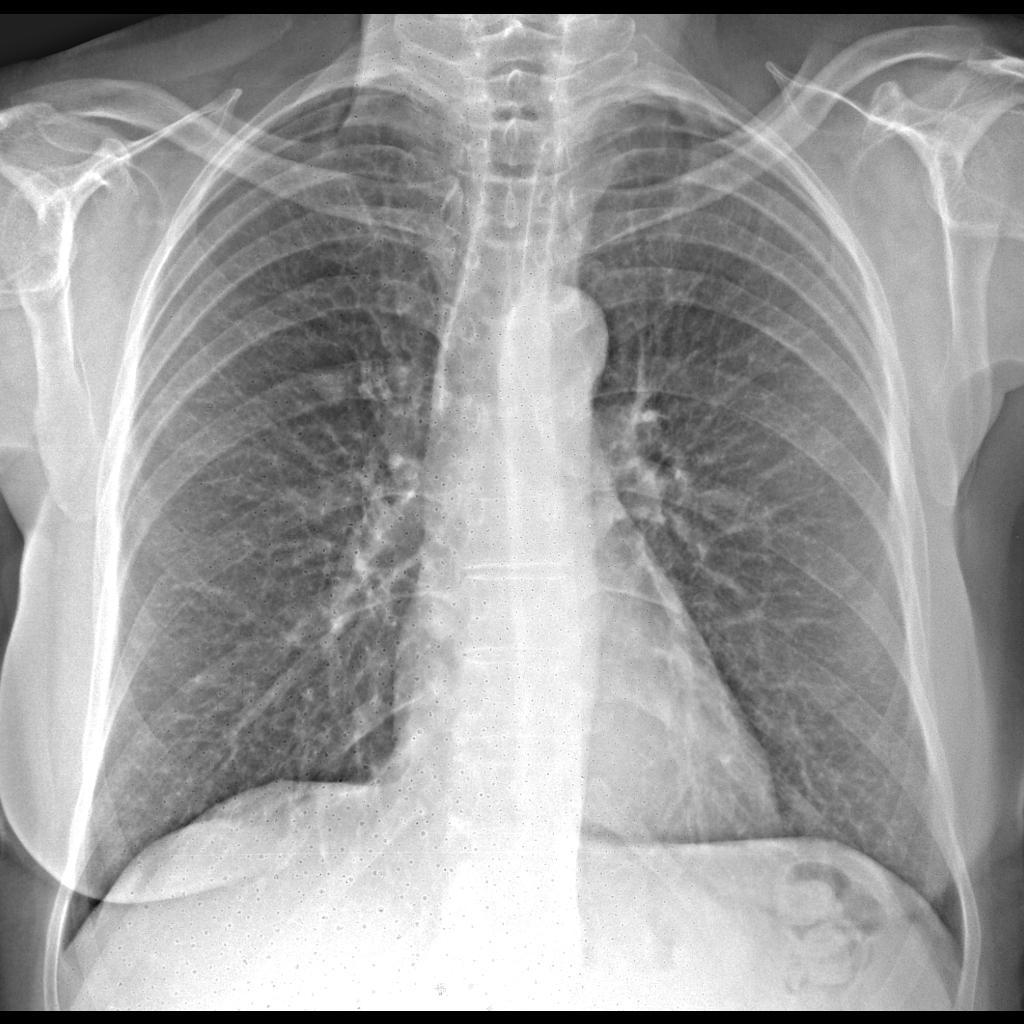Nodule: (293, 359, 355, 413)
